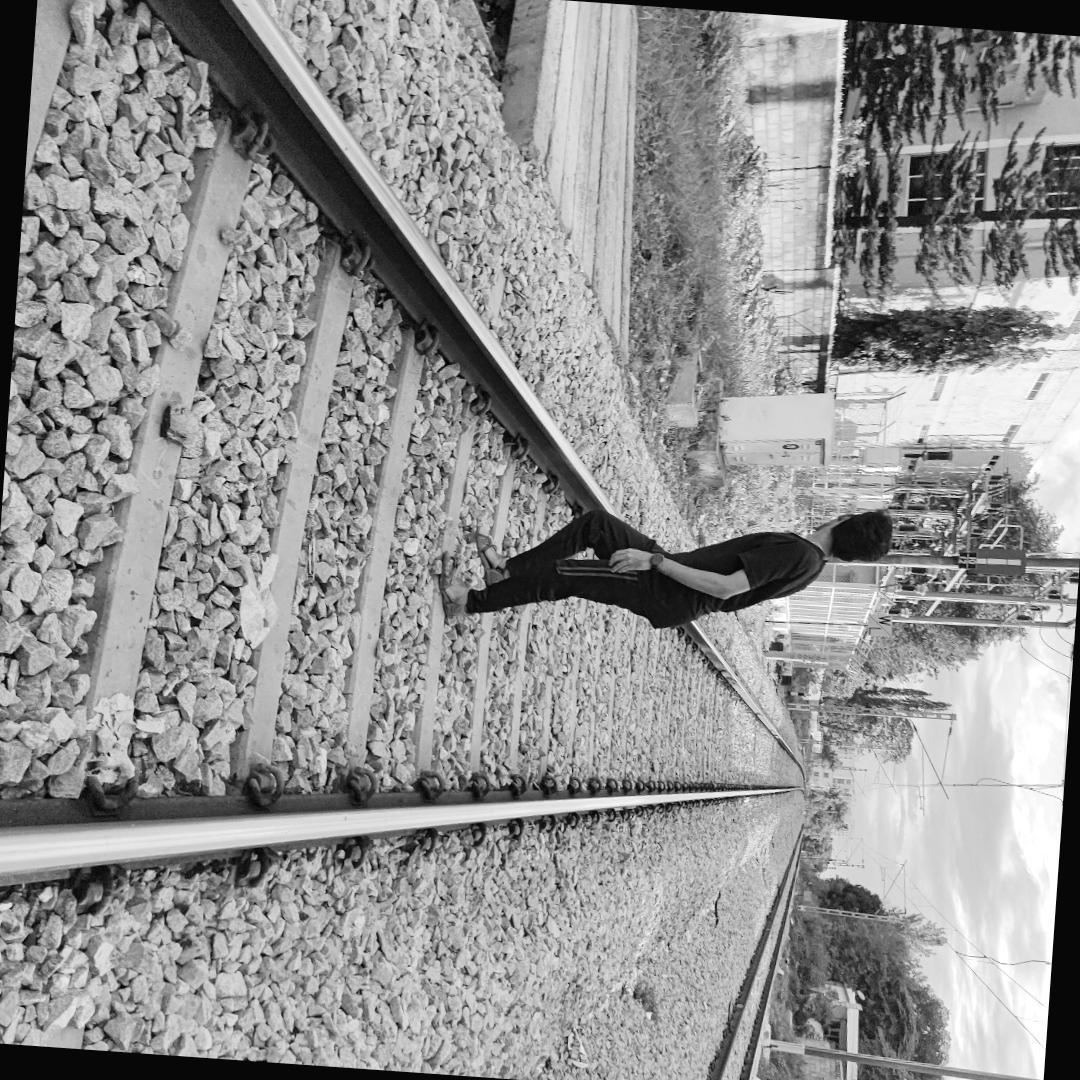standing: (444, 498, 909, 650)
